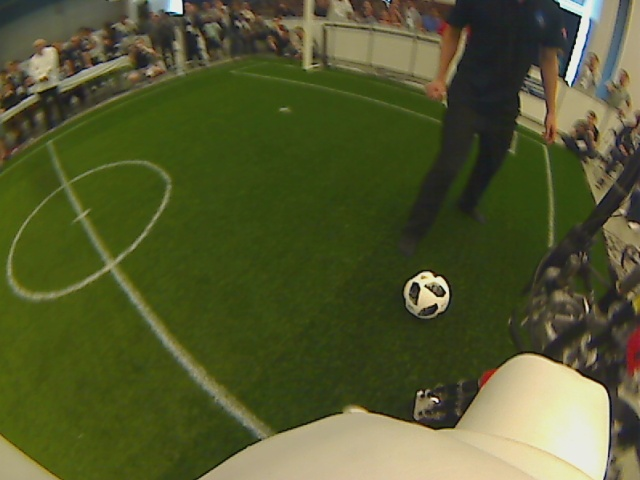ball: (403, 269, 450, 319)
